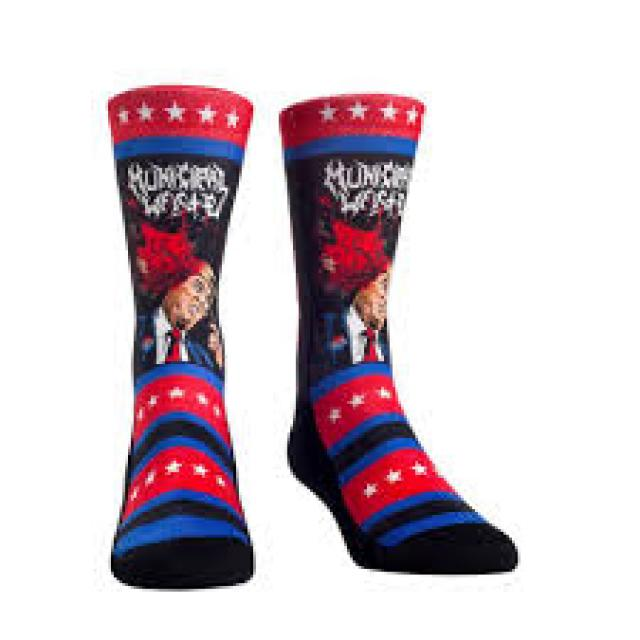Clothes -Biodegradable-: (276, 91, 522, 573), (108, 84, 255, 589)
